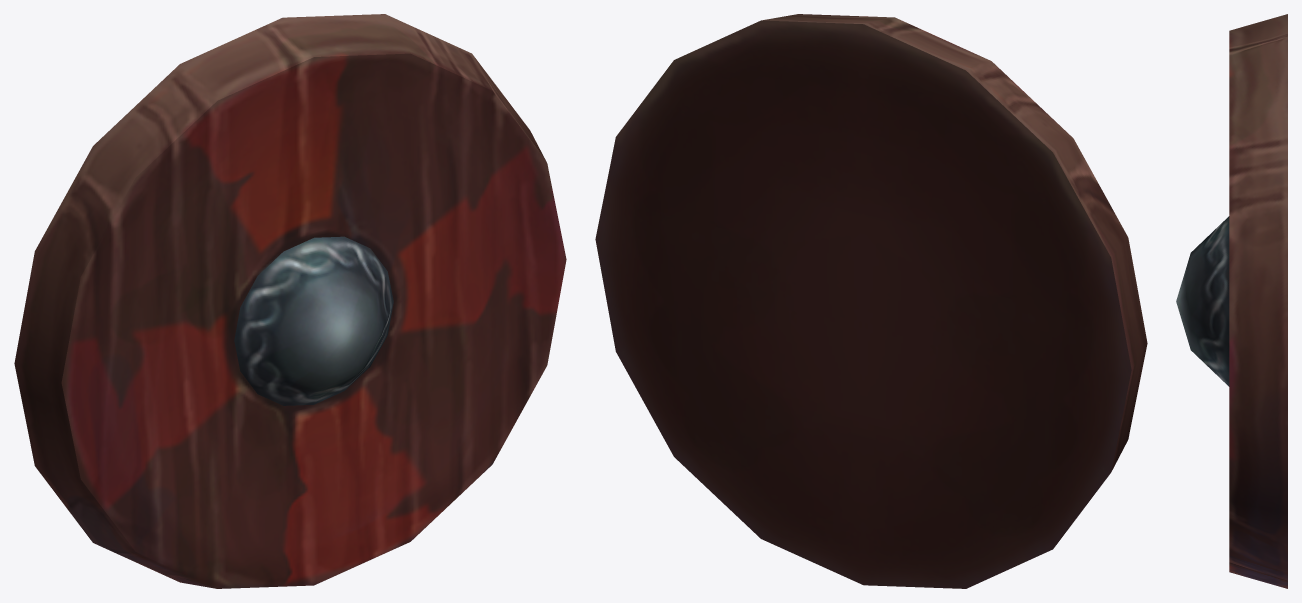
The model's file is Male_Viking_Shield_001.FBX.
3 views of the same model, side by side, from view 1: azimuth 30°, elevation 25°; view 2: azimuth 150°, elevation 25°; view 3: azimuth 270°, elevation 25° (orthographic). The views are drawn at different scales.
Parts seen in each view (by area): view 1: Male_Viking_Weapon_002; view 2: Male_Viking_Weapon_002; view 3: Male_Viking_Weapon_002.
Part boxes in pixels (x1,y1,x2,y2): Male_Viking_Weapon_002: (14,14,566,588); Male_Viking_Weapon_002: (595,14,1147,588); Male_Viking_Weapon_002: (1176,14,1287,588).
Size of the model in its own units: 68.81 by 68.81 by 13.36.
